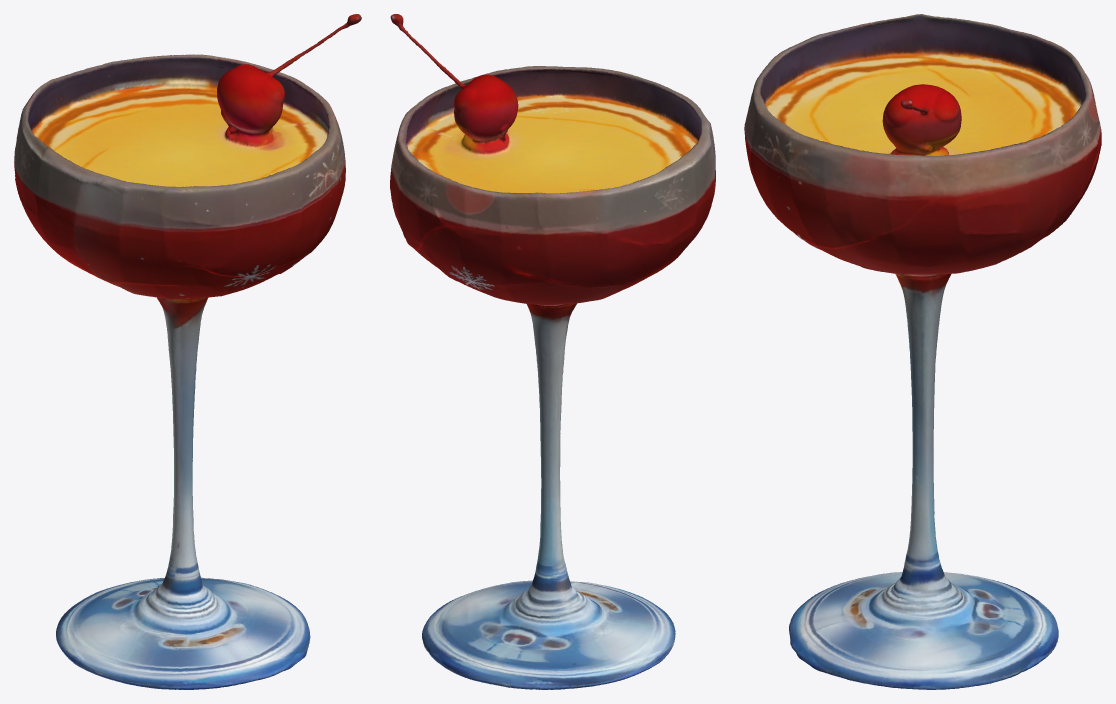
Rendered from barbrain_manhattan.glb.
3 views of the same model, side by side, from view 1: azimuth 30°, elevation 25°; view 2: azimuth 150°, elevation 25°; view 3: azimuth 270°, elevation 25° (orthographic). The views are drawn at different scales.
Bounding box in the file's own units: 1.13 × 2 × 1.05.
1 material, 1 textured.
